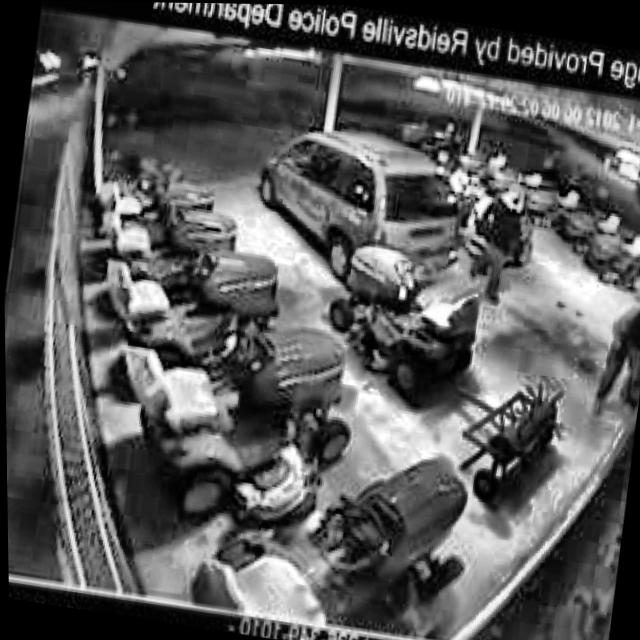burglary: (581, 275, 640, 426)
